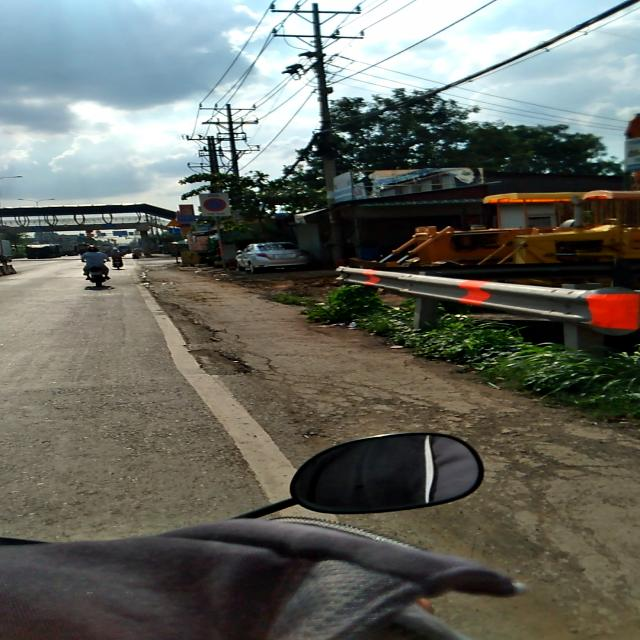P.130: (203, 198, 227, 212)
